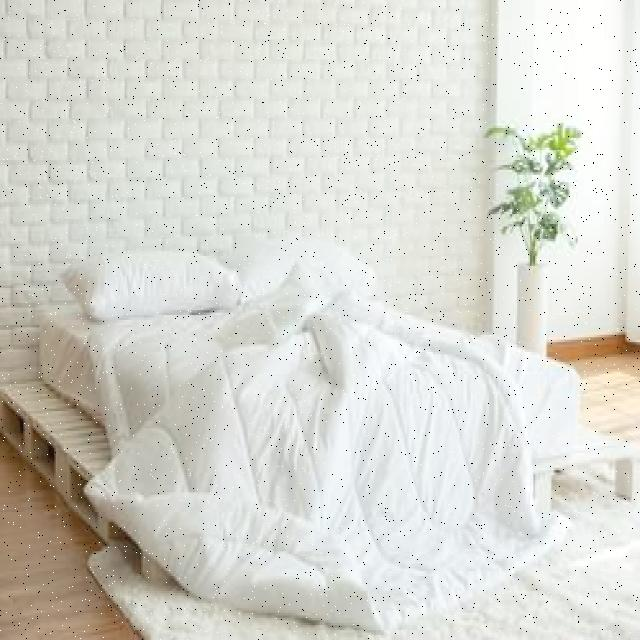bed: (36, 247, 584, 634)
